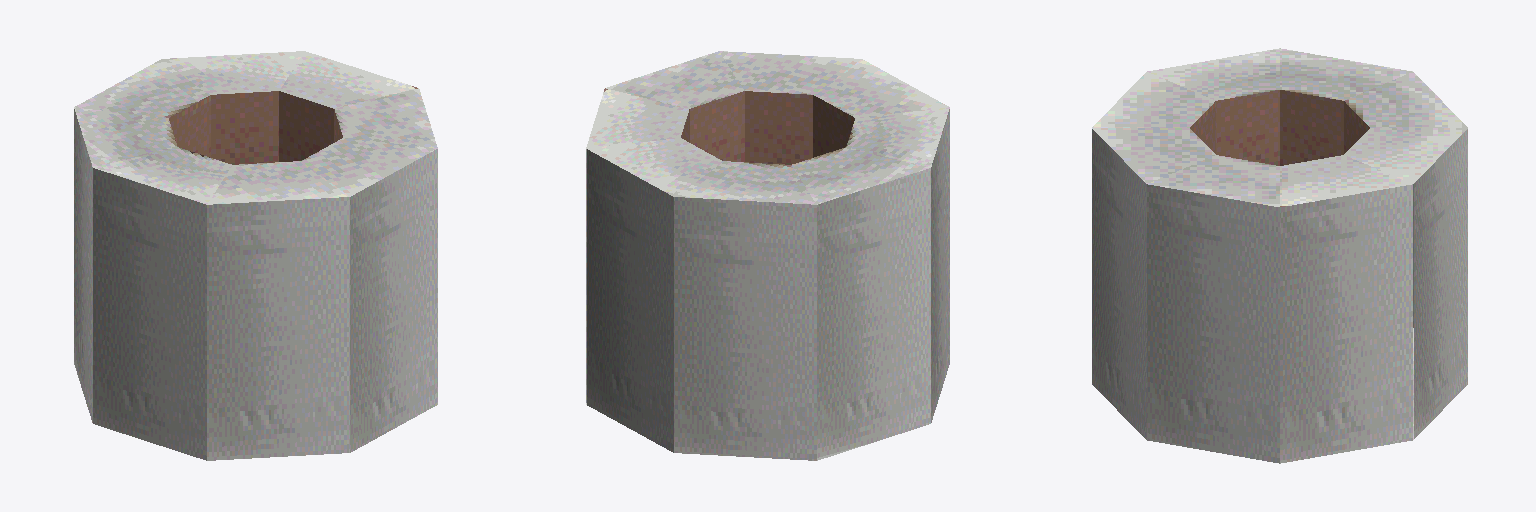
3 renders of one model, left to right at view 1: azimuth 30°, elevation 25°; view 2: azimuth 150°, elevation 25°; view 3: azimuth 270°, elevation 25°, orthographic.
Visible parts, largest first — view 1: Toilet_Roll_Single; view 2: Toilet_Roll_Single; view 3: Toilet_Roll_Single.
Boxes of the visible parts, x1,y1,x2,y2 form: Toilet_Roll_Single: [74, 51, 437, 460]; Toilet_Roll_Single: [586, 51, 949, 460]; Toilet_Roll_Single: [1092, 48, 1467, 463].
Size of the model in its own units: 0.3634 by 0.2726 by 0.3634.
1 materials, 1 textured.